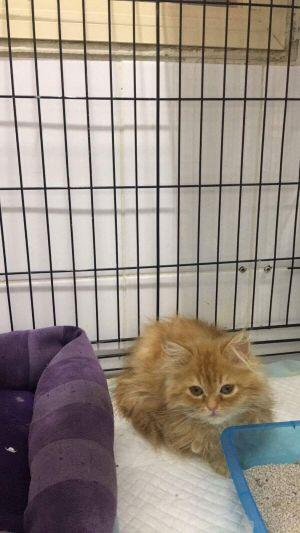persian: (160, 329, 266, 437)
